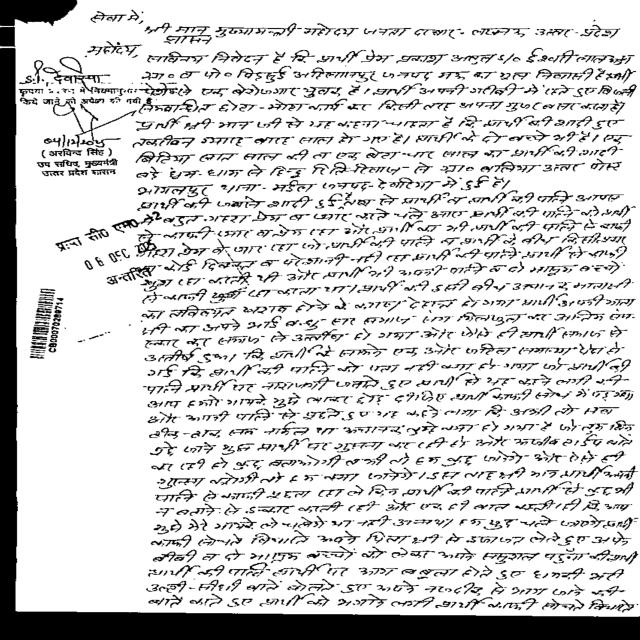antritgovtstamp: (55, 210, 183, 287)
barcode: (23, 284, 72, 367)
signnamestamp: (34, 101, 133, 185)
